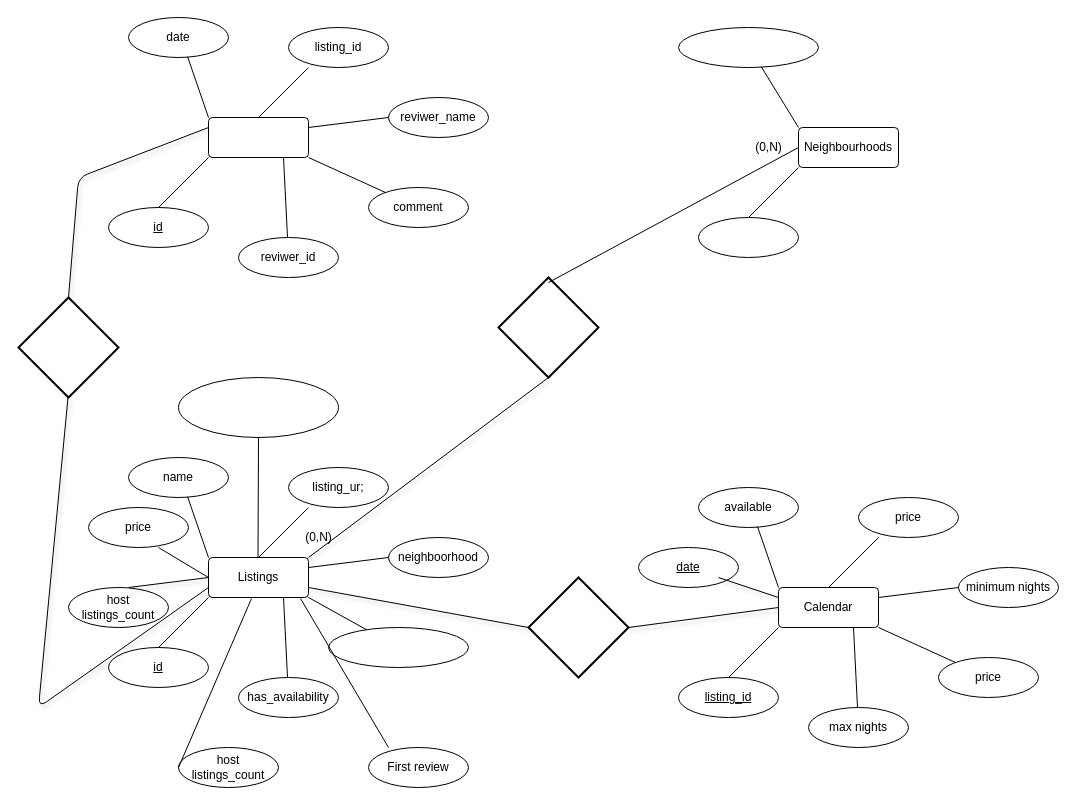
The diagram is 1076 pixels wide and 805 high, and some of its shapes have lost their labels. The shapes that lost their labels are listed below. From the top down, each one's centre as x and y in pixels, then its label:
(x=748, y=47): neighboorhoud_group
(x=258, y=137): Reviews
(x=748, y=237): neighboorhoud
(x=68, y=347): Αξιολογεί
(x=548, y=327): βρίσκεται
(x=258, y=407): host_neighboorhood
(x=398, y=647): neighboorhoud_overviw
(x=578, y=627): κρατάει
